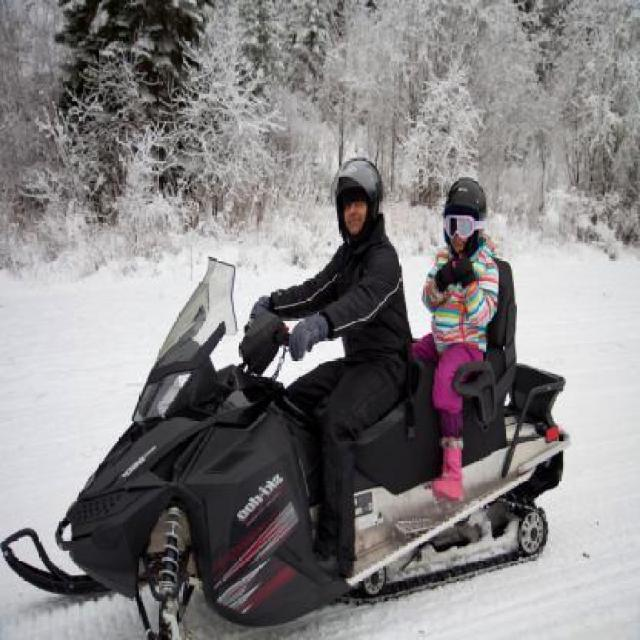face_nomask: (339, 195, 367, 233)
glasses: (442, 212, 489, 242)
hand_glove: (282, 307, 326, 362), (454, 256, 478, 287), (248, 289, 274, 317), (434, 262, 455, 289)
head_helmet: (328, 151, 386, 207), (438, 173, 492, 219)
person: (258, 144, 424, 582), (402, 166, 512, 508)
shoes: (430, 438, 472, 502)
